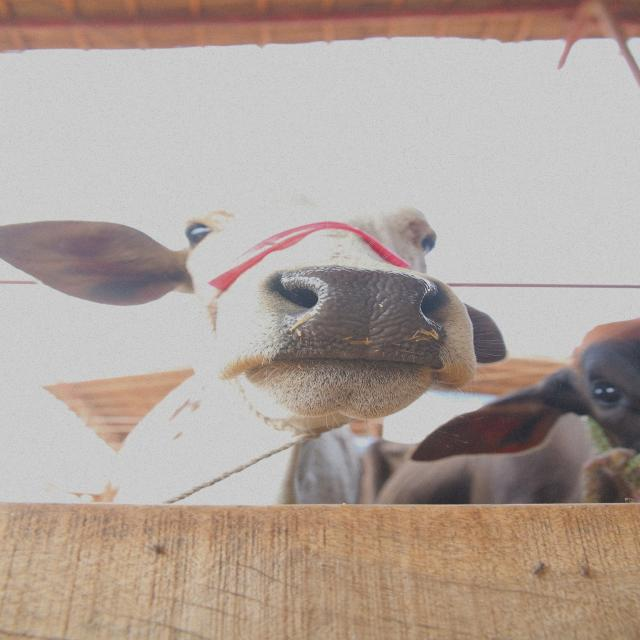muzzles: (258, 263, 456, 381)
